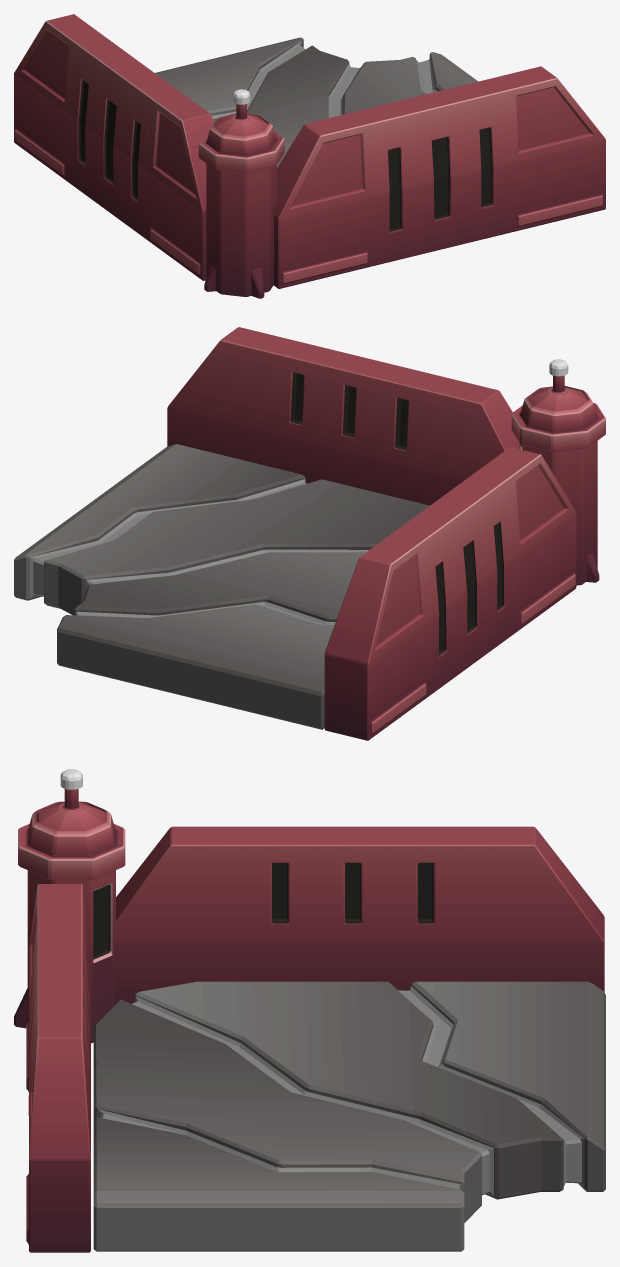
File: Thermal Haul_ConveyorLeft.glb
The picture shows the model from 3 angles, top to bottom: view 1: azimuth 30°, elevation 25°; view 2: azimuth 150°, elevation 25°; view 3: azimuth 270°, elevation 25°; orthographic projection. The views are drawn at different scales.
Parts seen in each view (by area): view 1: ConveyorBeltLeft; view 2: ConveyorBeltLeft; view 3: ConveyorBeltLeft.
Boxes of the visible parts, x1=… form: ConveyorBeltLeft: x1=14, y1=14, x2=605, y2=298; ConveyorBeltLeft: x1=14, y1=327, x2=605, y2=740; ConveyorBeltLeft: x1=14, y1=769, x2=605, y2=1252.
Bounding box in the file's own units: 1.84 × 0.8757 × 1.84.
2 materials, 1 textured.
